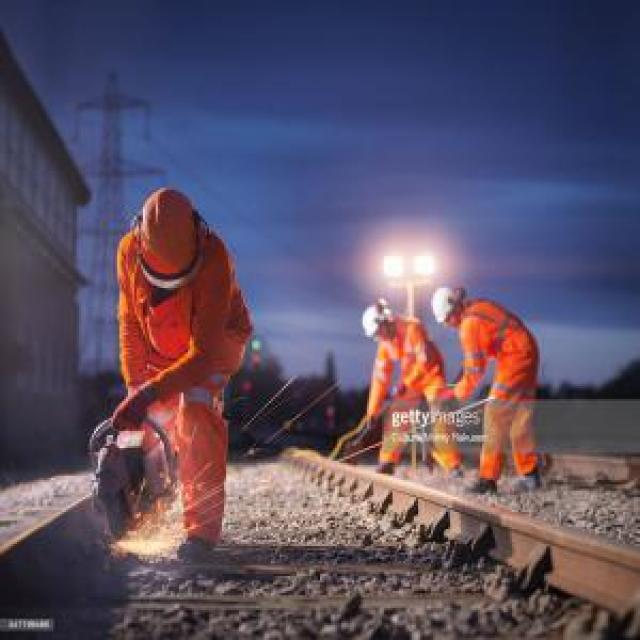danger: (114, 182, 251, 564), (435, 280, 548, 497), (362, 298, 468, 492)
rail: (278, 445, 640, 631)
